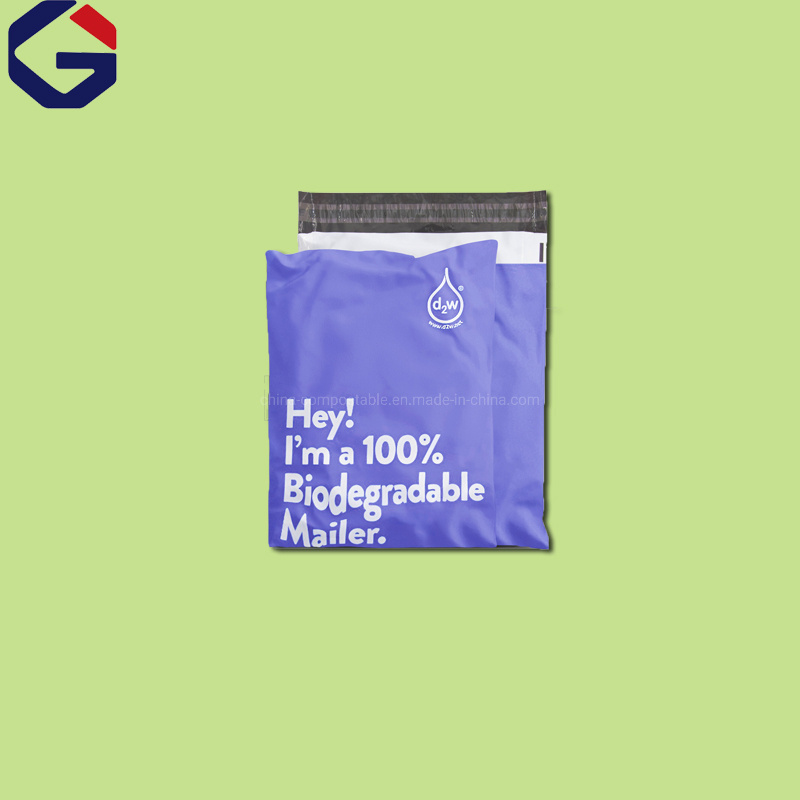Parcel: (266, 191, 548, 548)
